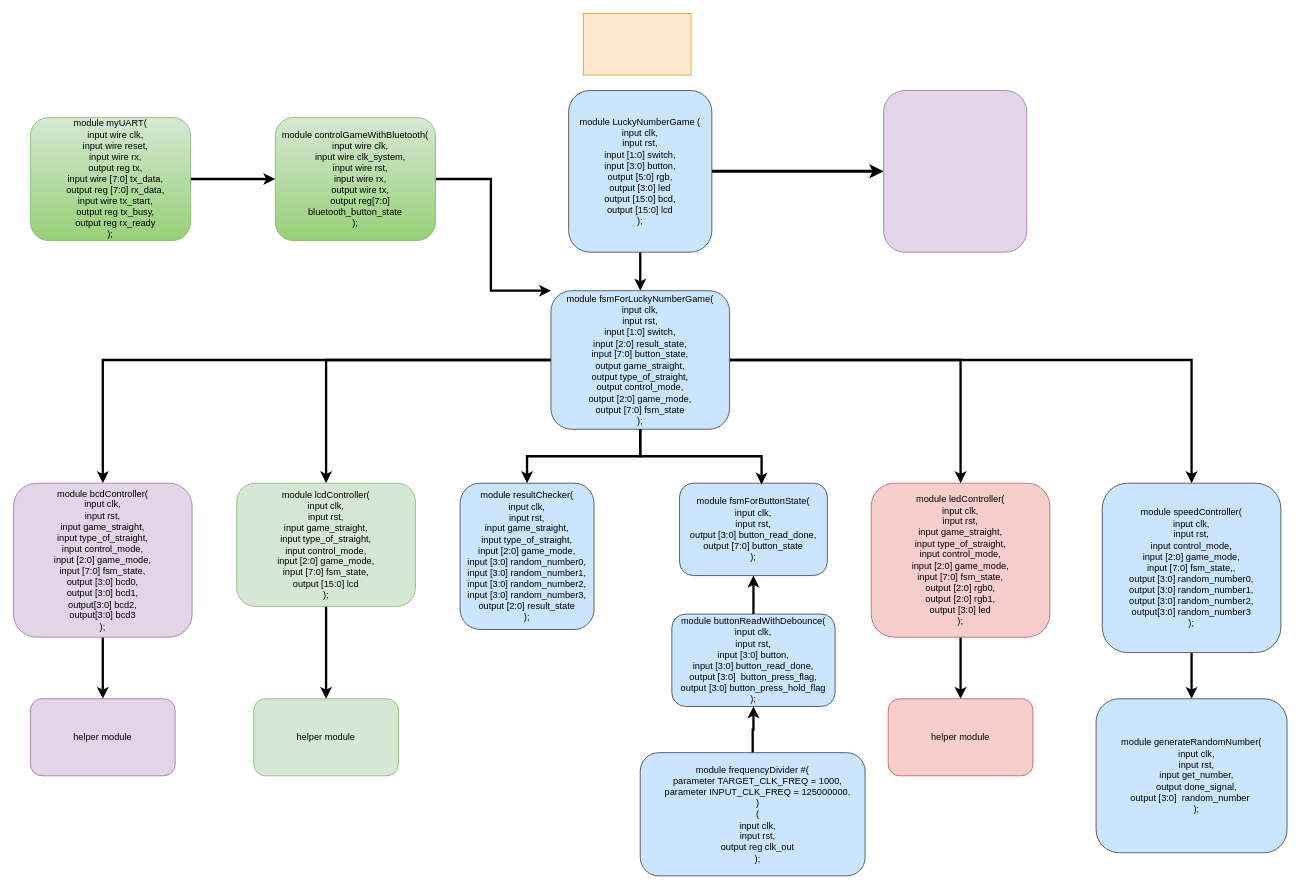
Some shapes in this 1301 by 889 pixel diagram are drawn without their labels. Each missing label, with the centre of its shape:
"module playMusic( input clk, input rst, output reg music );" belongs at point 955,171.
"Top level module" belongs at point 637,44.
